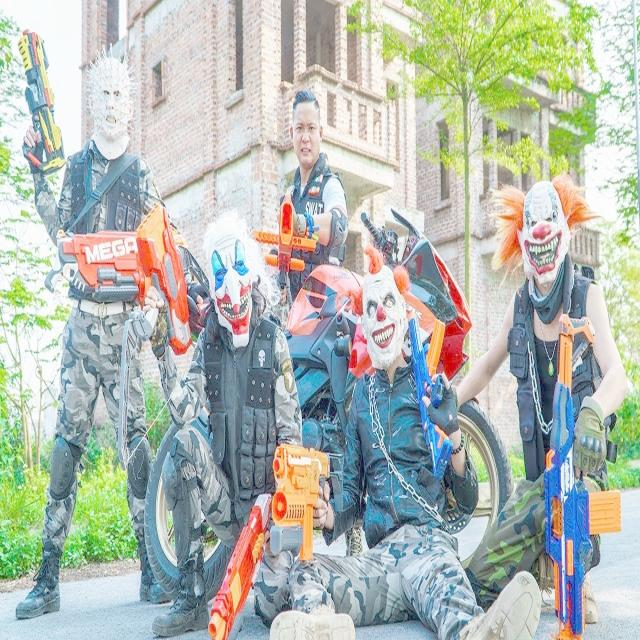Nerf gun: (537, 302, 623, 640), (135, 202, 201, 396), (270, 430, 343, 569), (404, 304, 460, 485), (206, 488, 272, 638), (57, 215, 179, 288), (13, 19, 68, 180), (252, 190, 320, 283)
